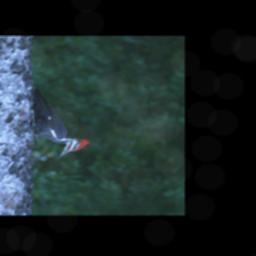Woodpecker: (29, 84, 89, 162)
